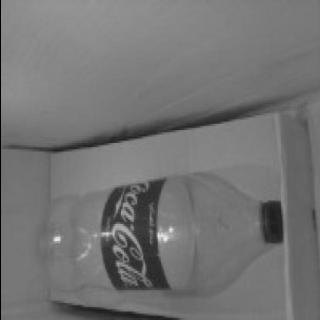plastic_bottles: (32, 170, 290, 302)
